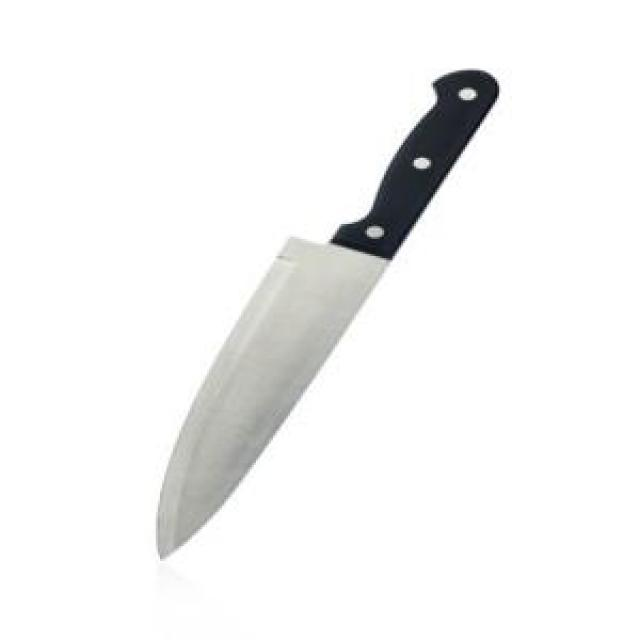knife: (149, 68, 524, 559)
